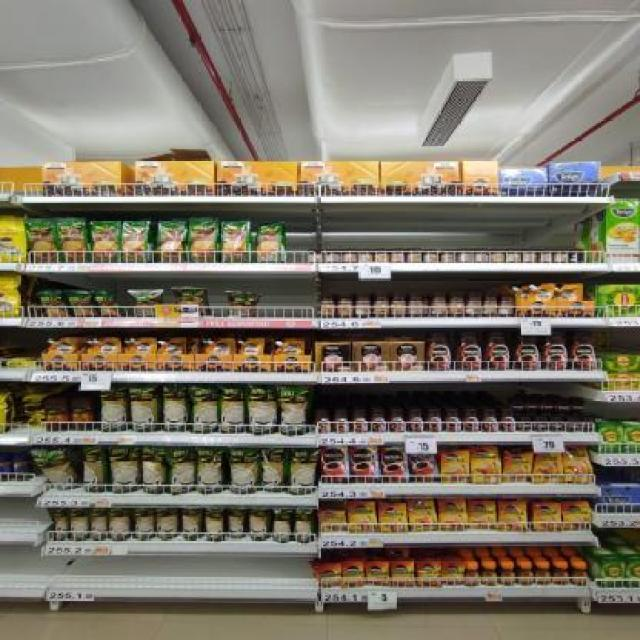Coffee: (318, 445, 350, 483), (470, 447, 502, 484), (380, 445, 409, 483), (571, 330, 597, 371), (439, 451, 471, 483), (426, 332, 452, 371), (409, 446, 437, 482), (351, 447, 379, 483), (564, 447, 592, 483), (515, 330, 539, 371), (457, 331, 481, 372), (485, 331, 509, 372), (544, 330, 568, 370), (534, 450, 562, 484), (410, 498, 437, 532), (468, 499, 497, 530), (379, 502, 408, 533), (439, 498, 466, 531), (499, 501, 527, 532), (348, 501, 376, 532), (534, 502, 562, 533), (504, 452, 531, 482), (562, 501, 589, 529), (316, 511, 347, 533), (416, 560, 440, 587), (441, 560, 465, 586), (366, 561, 390, 587), (391, 561, 415, 587), (341, 562, 365, 588), (316, 565, 340, 588), (481, 410, 499, 433), (333, 409, 350, 433), (443, 411, 461, 433), (534, 564, 552, 586), (570, 565, 588, 587), (388, 410, 405, 433), (426, 410, 443, 433), (408, 409, 424, 433), (517, 564, 534, 586), (500, 410, 516, 433), (371, 410, 387, 433), (352, 410, 368, 433), (464, 410, 480, 432), (315, 410, 331, 432), (553, 564, 569, 586), (481, 564, 497, 586), (500, 565, 516, 586), (465, 565, 479, 587), (517, 418, 533, 432), (557, 401, 571, 414), (535, 419, 548, 432), (512, 400, 526, 412), (584, 418, 596, 431), (551, 419, 564, 431), (528, 400, 540, 412), (542, 400, 554, 412), (574, 401, 586, 413), (568, 420, 580, 432)
